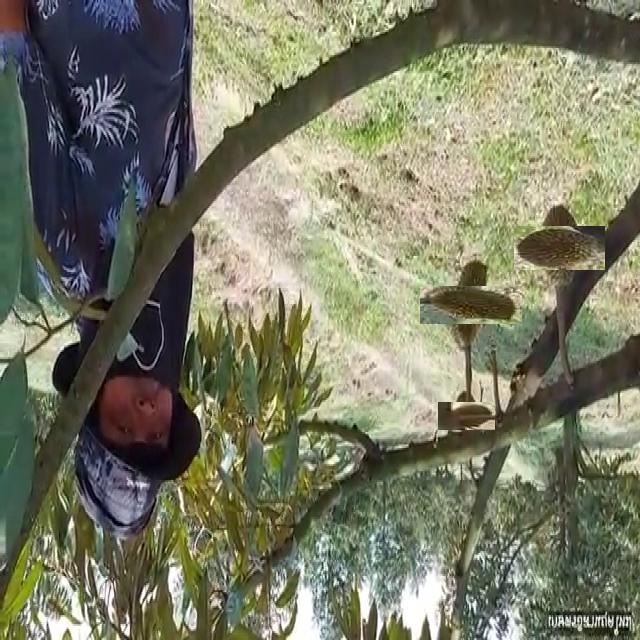durian: (436, 270, 507, 340), (526, 214, 594, 282), (445, 395, 488, 438)
